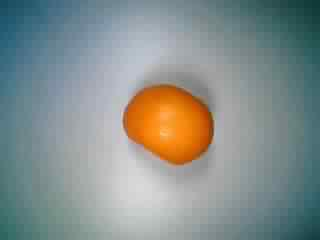orange: (116, 81, 218, 168)
